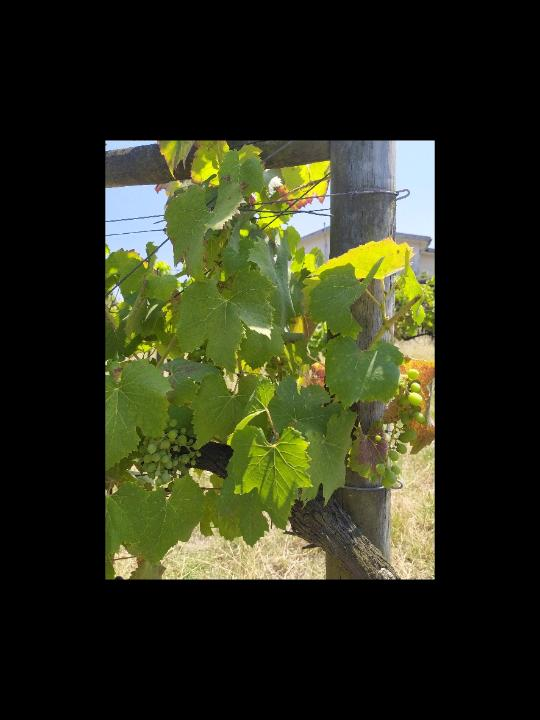grape: (372, 369, 427, 489), (137, 417, 202, 493)
